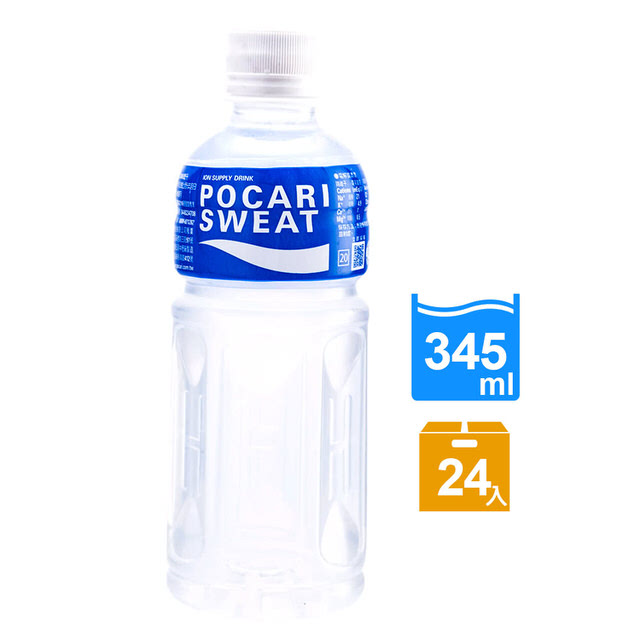POCARI SWEAT: (168, 29, 373, 614)
